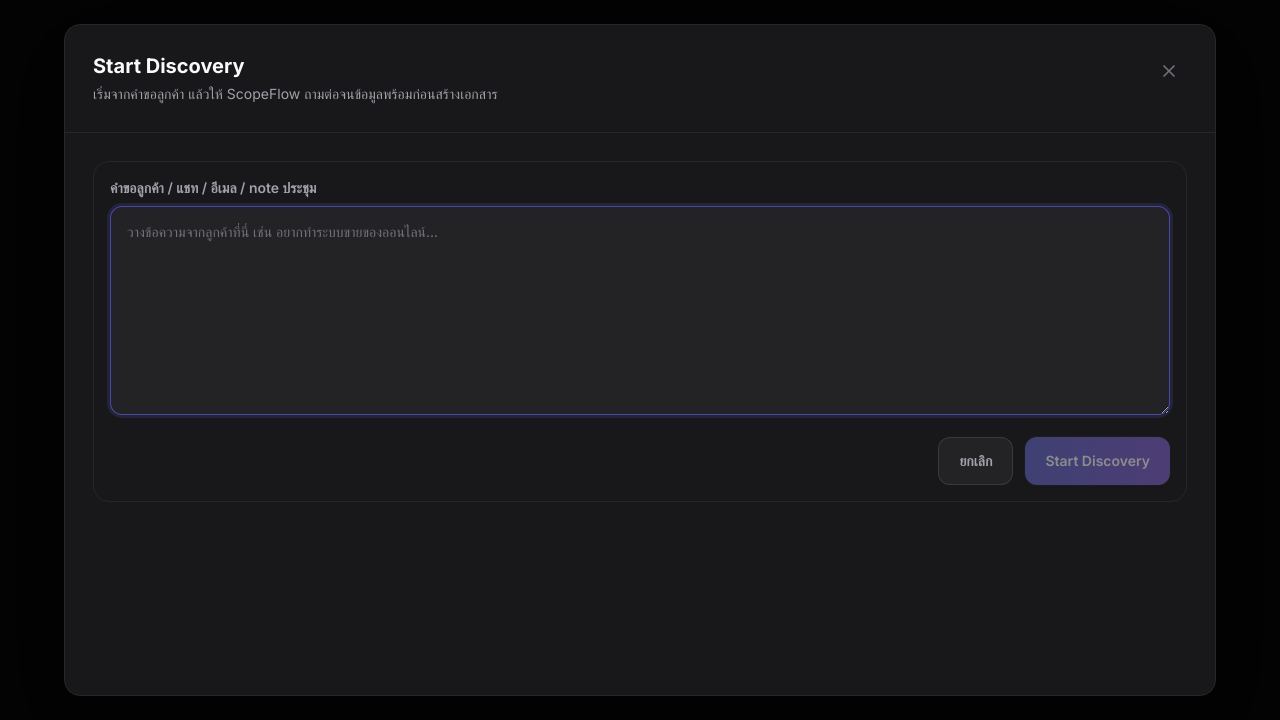
DiscoveryStartModal › starts discovery from a raw customer request
The image size is (1280, 720).
Check: the heading "Start Discovery" is shown, box left=93, top=54, right=244, bottom=78
Type "อยากทำระบบให้ร้านหน่อย" into the text box with placeholder "วางข้อความจากลูกค้าที่นี่ เช่น อยากทำระบบขายของออนไลน์..." at (640, 310), box left=110, top=206, right=1170, bottom=415
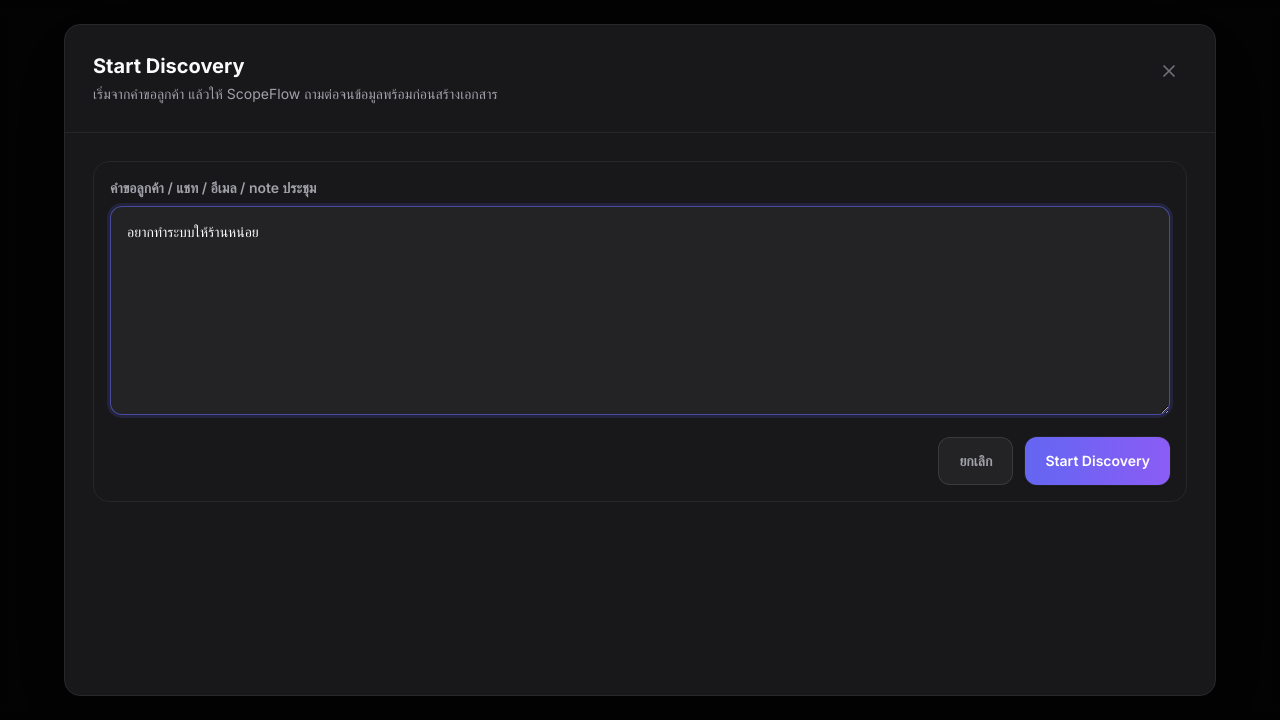
Click the button "Start Discovery" at (1098, 461), box left=1025, top=437, right=1170, bottom=485
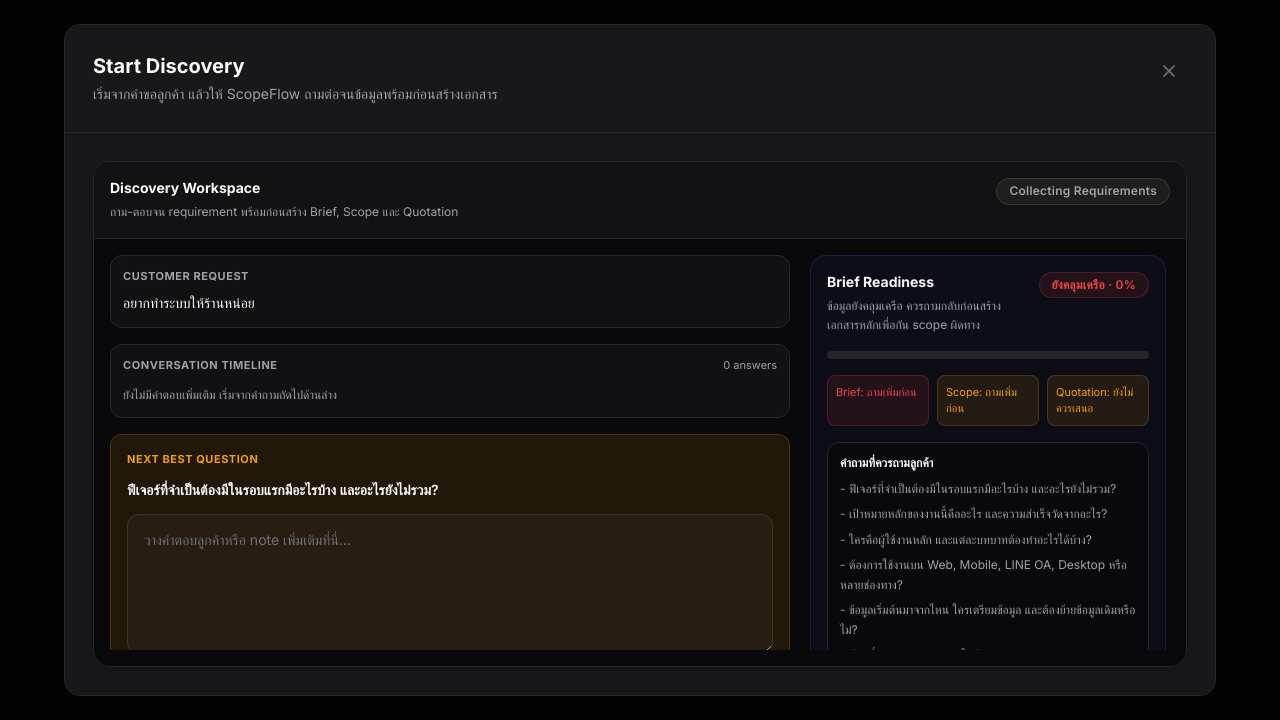
Check: the heading "Discovery Workspace" is shown, box left=110, top=179, right=260, bottom=196
Check: the text "Customer Request" is shown, box left=123, top=268, right=249, bottom=282
